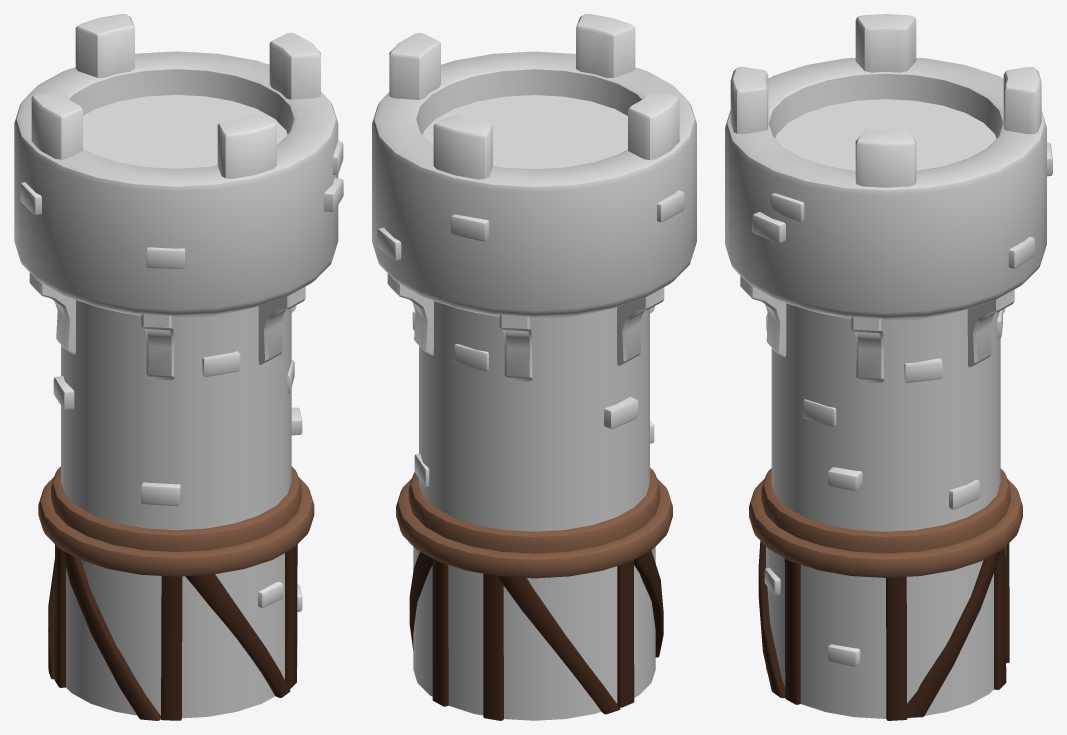
File: Tower_1.fbx
The picture shows the model from 3 angles, left to right: view 1: azimuth 30°, elevation 25°; view 2: azimuth 150°, elevation 25°; view 3: azimuth 270°, elevation 25°; orthographic projection.
Visible parts, largest first — view 1: Tower_1; view 2: Tower_1; view 3: Tower_1.
Part boxes in pixels (<box>): Tower_1: <box>14,14,343,720</box>; Tower_1: <box>372,14,696,720</box>; Tower_1: <box>725,14,1052,720</box>.
Bounding box in the file's own units: 2.2 × 4.37 × 2.2.
